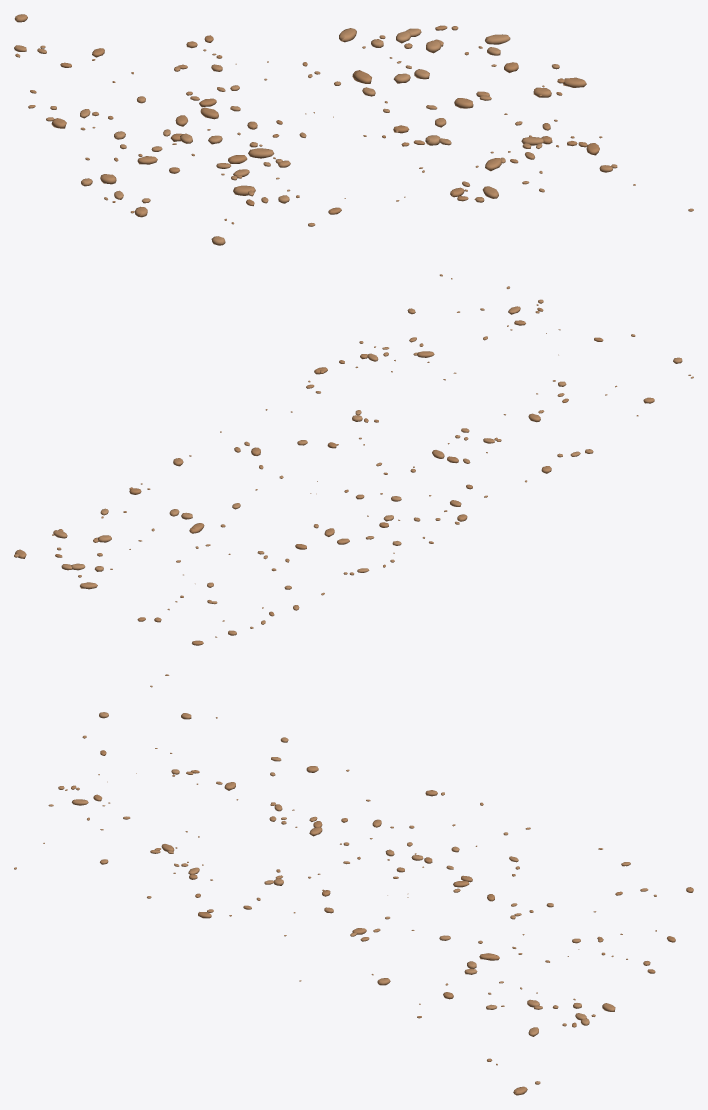
The model's file is terrain-113.glb.
3 renders of one model, top to bottom at view 1: azimuth 30°, elevation 25°; view 2: azimuth 150°, elevation 25°; view 3: azimuth 270°, elevation 25°, orthographic. The views are drawn at different scales.
Parts seen in each view (by area): view 1: terrain-113; view 2: terrain-113; view 3: terrain-113.
Boxes of the visible parts, <box> form: terrain-113: <box>14,14,693,245</box>; terrain-113: <box>14,274,693,645</box>; terrain-113: <box>14,674,693,1095</box>.
Size of the model in its own units: 58.76 by 19.2 by 68.08.
